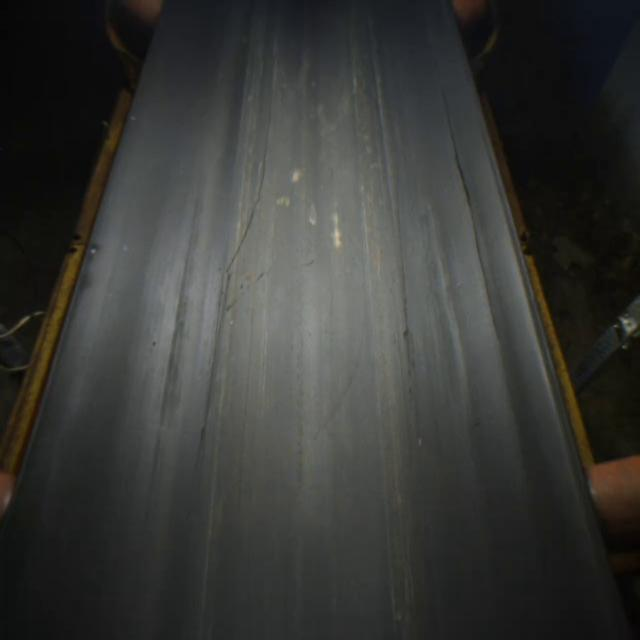Tear: (187, 94, 283, 464), (434, 84, 508, 348)
